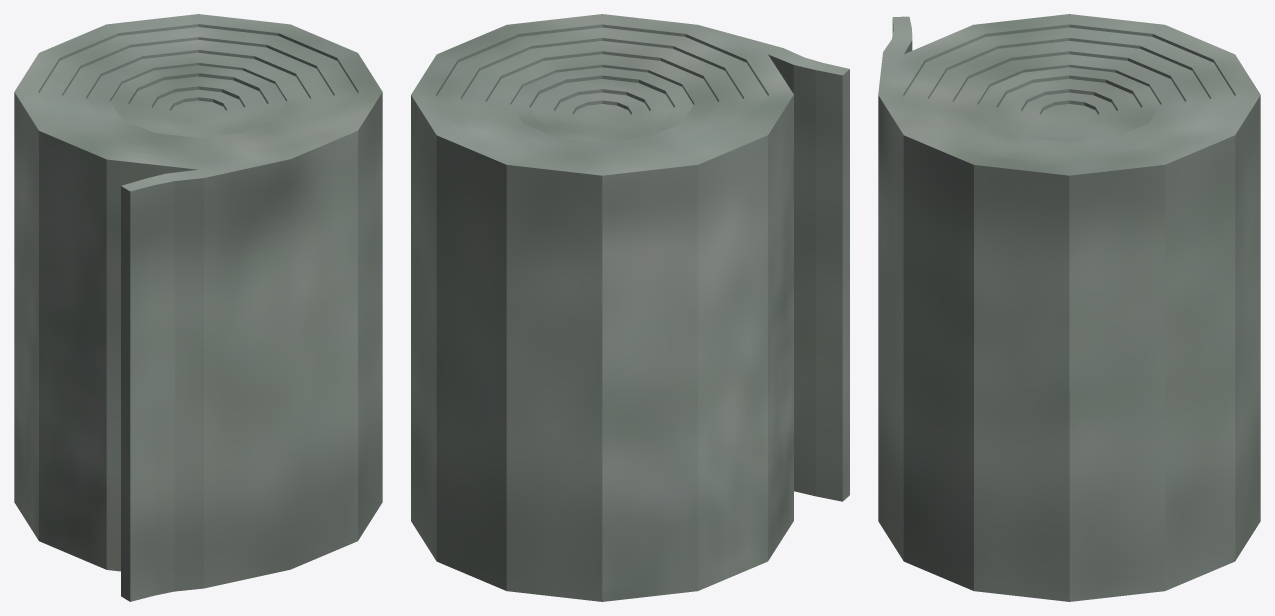
The model's file is Bandage.fbx.
3 renders of one model, left to right at view 1: azimuth 30°, elevation 25°; view 2: azimuth 150°, elevation 25°; view 3: azimuth 270°, elevation 25°, orthographic. The views are drawn at different scales.
Parts seen in each view (by area): view 1: Bandage; view 2: Bandage; view 3: Bandage.
Part boxes in pixels (x1,y1,x2,y2): Bandage: (14,14,382,601); Bandage: (411,14,849,601); Bandage: (878,14,1260,601).
Size of the model in its own units: 0.1025 by 0.126 by 0.1025.
